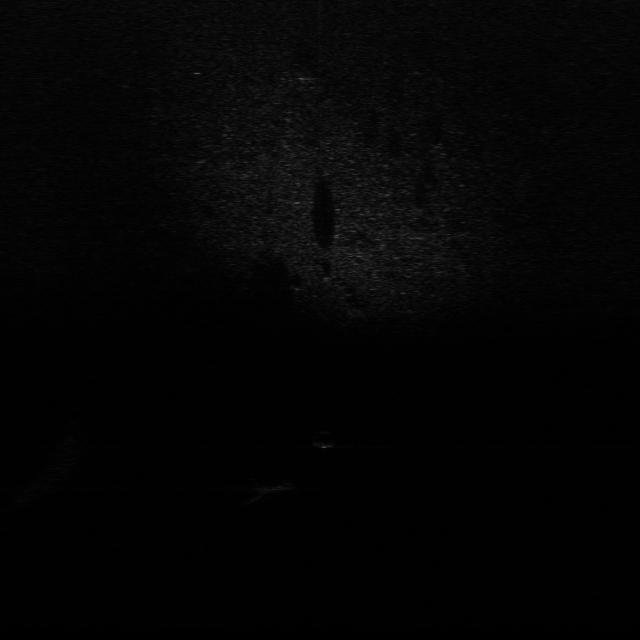ball: (304, 426, 338, 451)
square cage: (244, 474, 302, 494)
